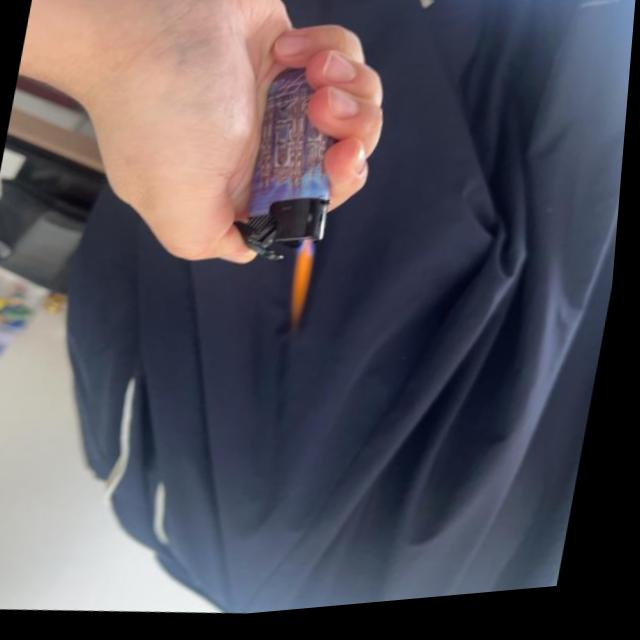Fire: (287, 248, 323, 329)
